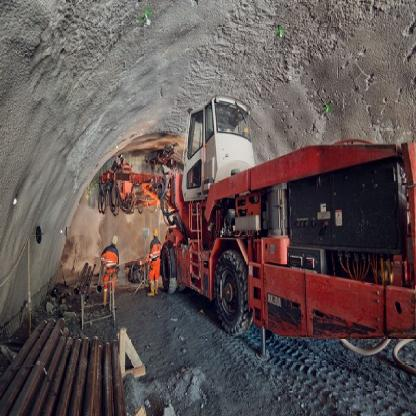person: (90, 231, 126, 314), (147, 223, 161, 298)
